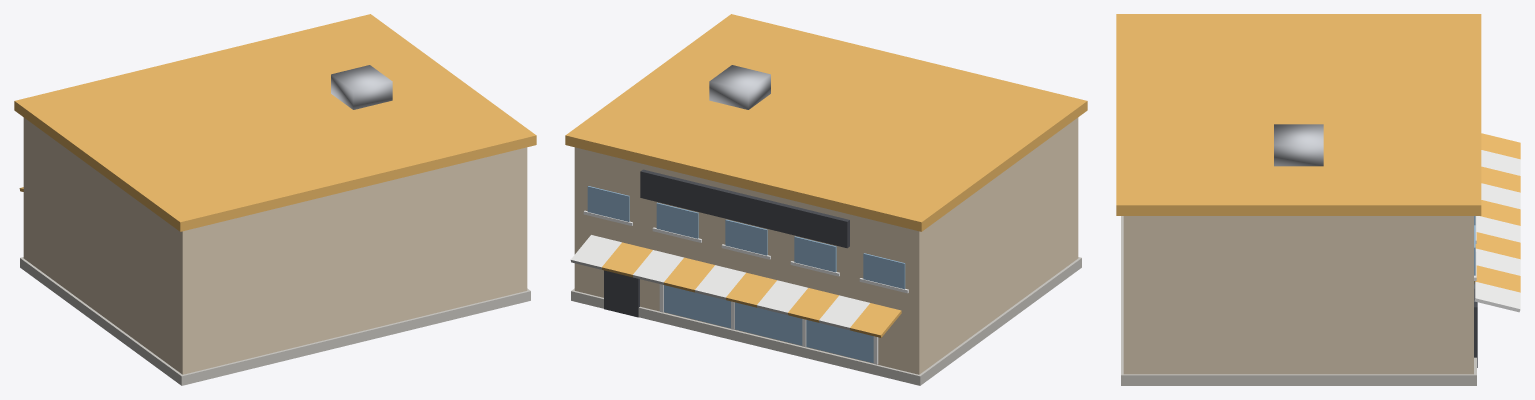
File: B_shop.fbx
3 views of the same model, side by side, from view 1: azimuth 30°, elevation 25°; view 2: azimuth 150°, elevation 25°; view 3: azimuth 270°, elevation 25° (orthographic). The views are drawn at different scales.
Visible parts, largest first — view 1: Wall.001, Trim.003, Concrete.002, Metal.002; view 2: Trim.003, Wall.001, Glass.002, Dark.009, White.003, Concrete.002, Metal.002; view 3: Trim.003, Wall.001, Concrete.002, White.003, Metal.002.
Part boxes in pixels (x1,y1,x2,y2): Wall.001: [23, 117, 527, 374]; Trim.003: [14, 14, 536, 231]; Concrete.002: [20, 257, 530, 385]; Metal.002: [331, 65, 392, 109]; Trim.003: [565, 14, 1087, 337]; Wall.001: [574, 117, 1078, 374]; Glass.002: [587, 186, 905, 363]; Dark.009: [604, 169, 849, 317]; White.003: [570, 210, 908, 364]; Concrete.002: [571, 257, 1081, 385]; Metal.002: [709, 65, 770, 109]; Trim.003: [1116, 14, 1520, 292]; Wall.001: [1123, 216, 1473, 374]; Concrete.002: [1121, 216, 1476, 385]; White.003: [1474, 150, 1520, 312]; Metal.002: [1274, 124, 1323, 166].
Size of the model in its own units: 3100 by 1540 by 2768.
